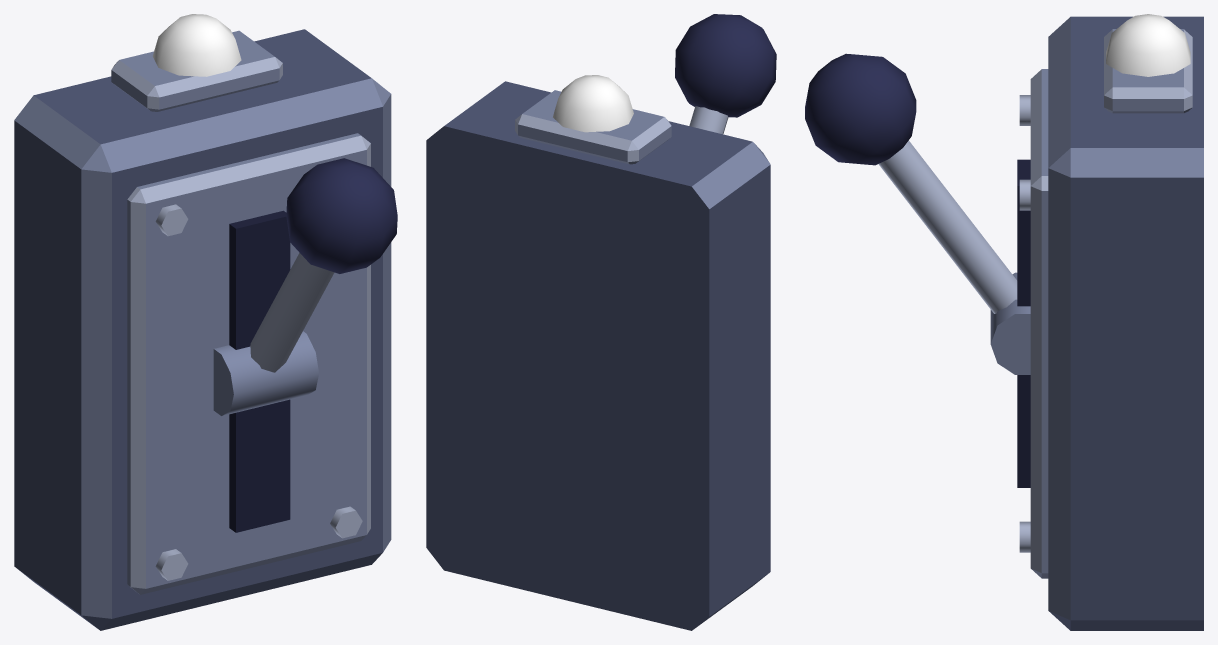
Rendered from Switch_Wall.fbx.
3 renders of one model, left to right at view 1: azimuth 30°, elevation 25°; view 2: azimuth 150°, elevation 25°; view 3: azimuth 270°, elevation 25°, orthographic. The views are drawn at different scales.
Parts seen in each view (by area): view 1: Switch_Wall, Switch_Wall_Lever, Switch_Wall_Lamp; view 2: Switch_Wall, Switch_Wall_Lever, Switch_Wall_Lamp; view 3: Switch_Wall, Switch_Wall_Lever, Switch_Wall_Lamp.
Boxes of the visible parts, <box> form: Switch_Wall: <box>14,29,391,630</box>; Switch_Wall_Lever: <box>213,158,397,416</box>; Switch_Wall_Lamp: <box>152,14,241,76</box>; Switch_Wall: <box>426,81,770,630</box>; Switch_Wall_Lever: <box>675,14,776,134</box>; Switch_Wall_Lamp: <box>553,75,633,132</box>; Switch_Wall: <box>1017,16,1203,630</box>; Switch_Wall_Lever: <box>805,53,1030,374</box>; Switch_Wall_Lamp: <box>1106,14,1190,76</box>.
Size of the model in its own units: 1.6 by 2.72 by 1.8.
Materials: 1 (1 with a texture image).
